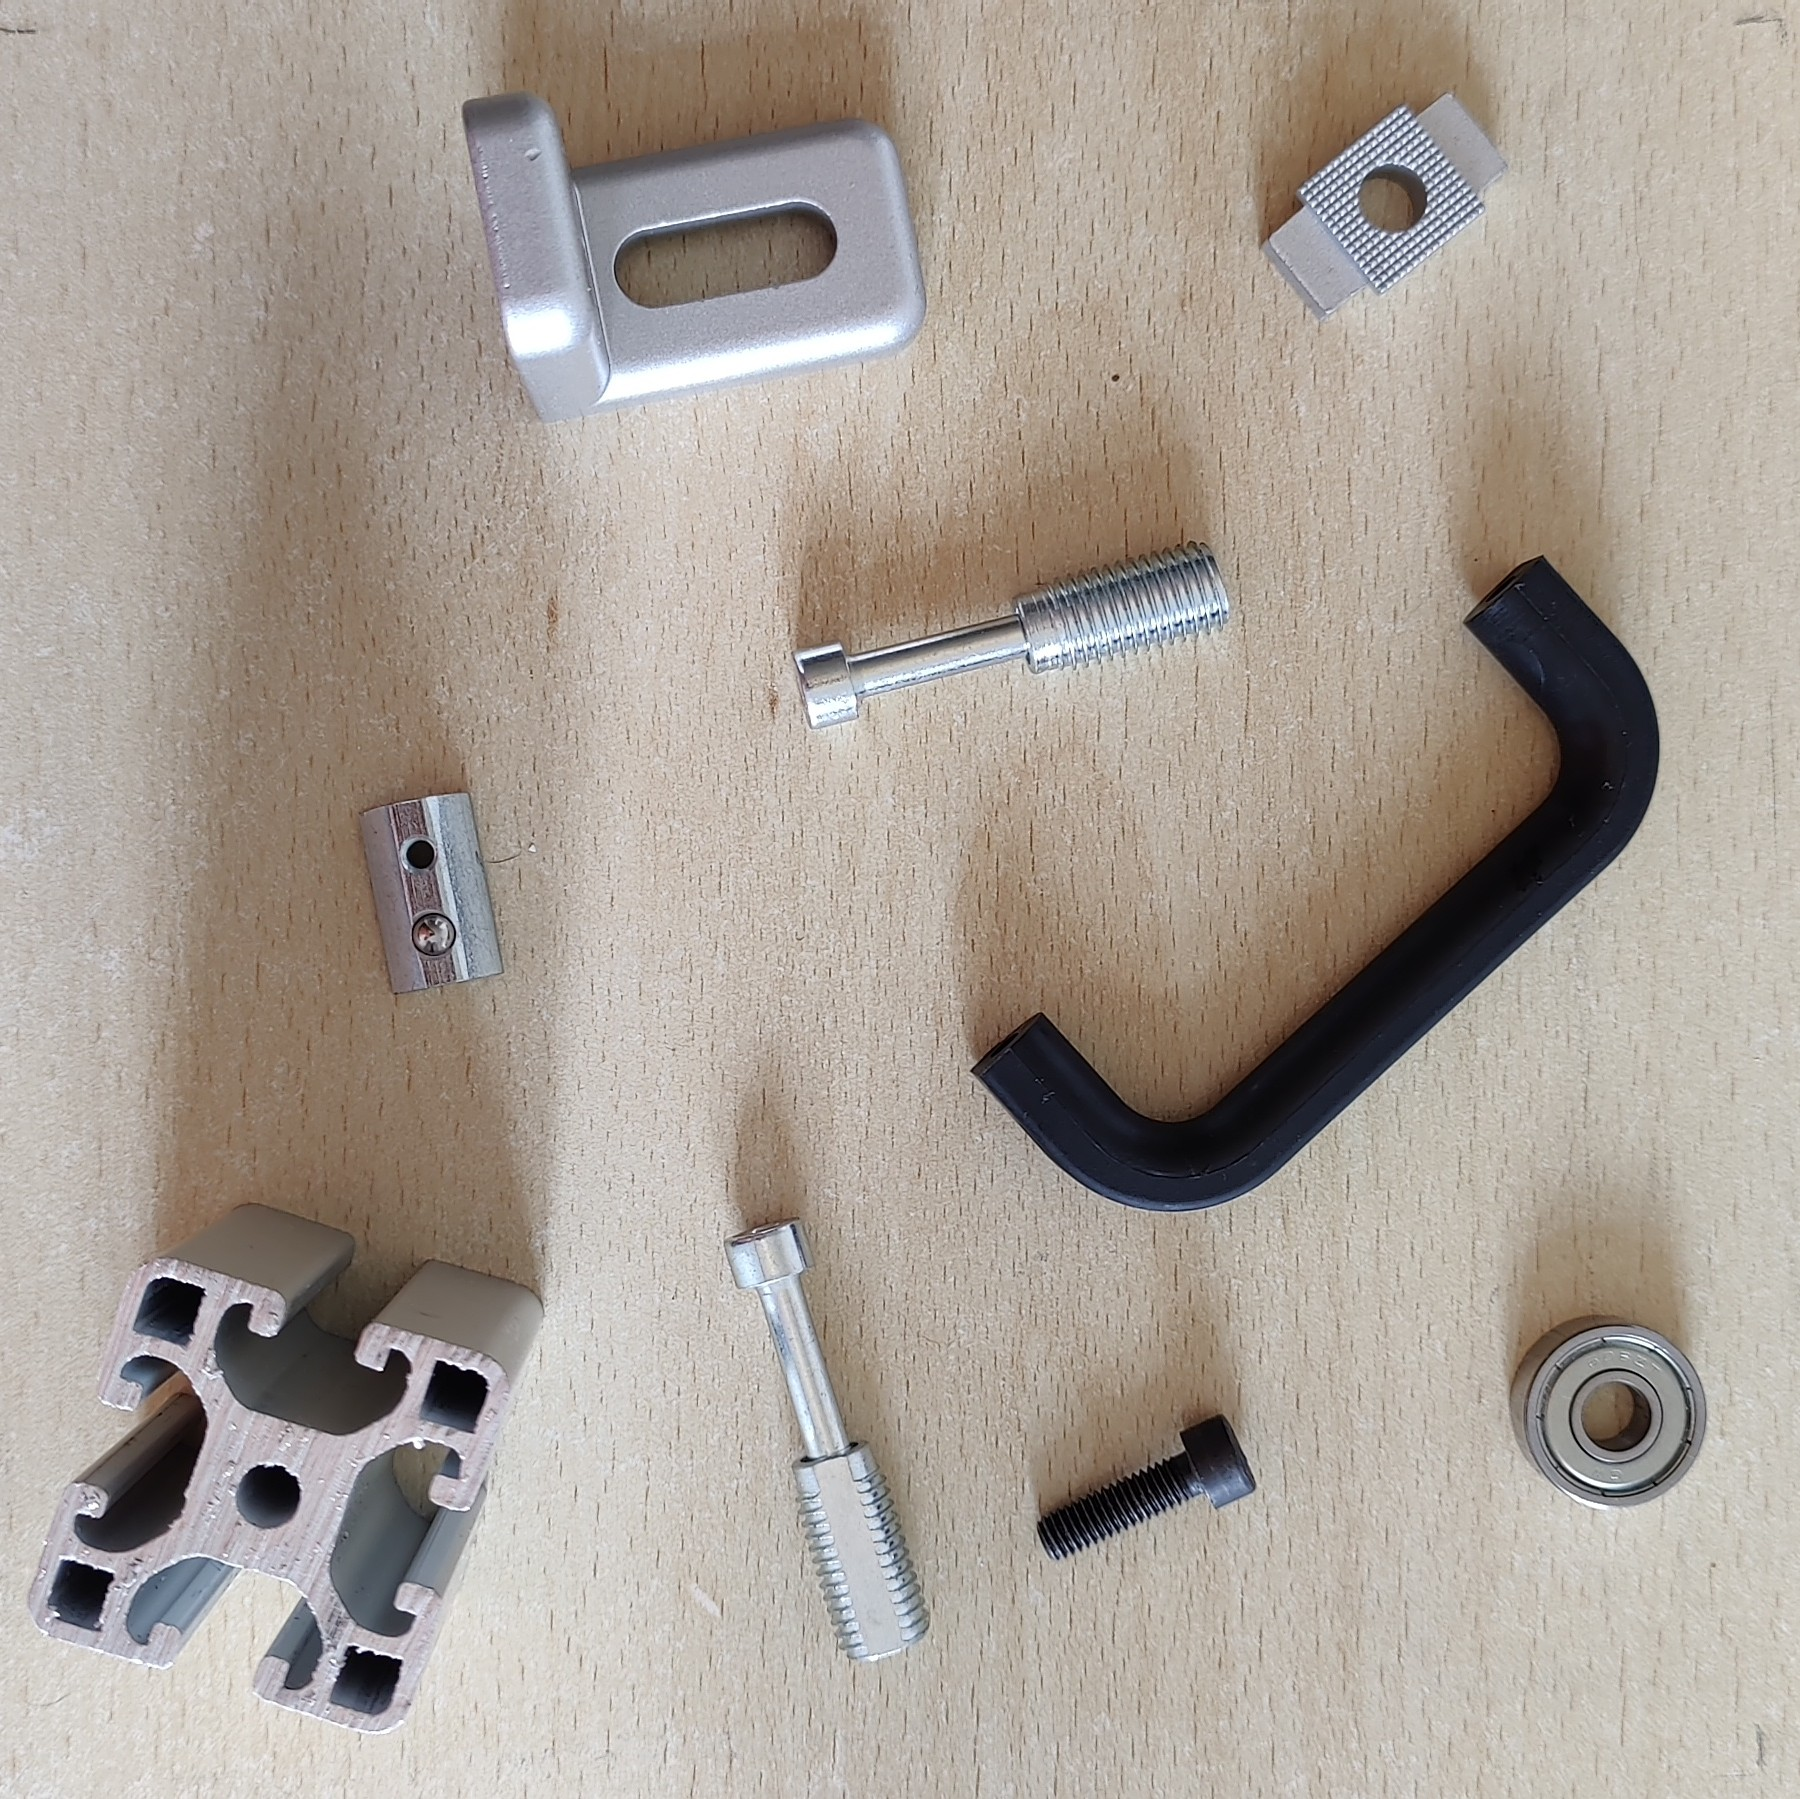Aluminium Extension: (25, 1203, 547, 1738)
Ball Bearing: (1505, 1310, 1711, 1511)
Multiwinkel: (461, 82, 930, 430)
Pull Handle: (967, 552, 1662, 1214)
Shoulder Socket Head Cap Screw: (716, 1214, 934, 1667), (789, 534, 1230, 733)
Socket Head Cap Screw: (1033, 1409, 1258, 1565)
T Nut Square: (1255, 91, 1512, 326)
T Spring Nut: (354, 787, 506, 995)
